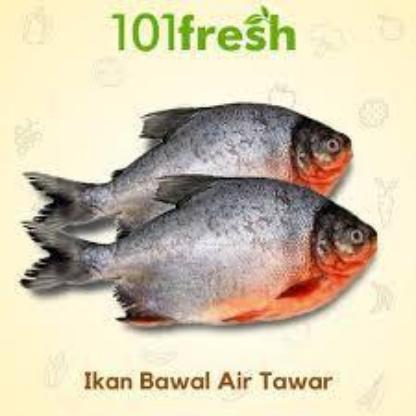ikan-pacu: (42, 173, 376, 341), (48, 100, 348, 226)
